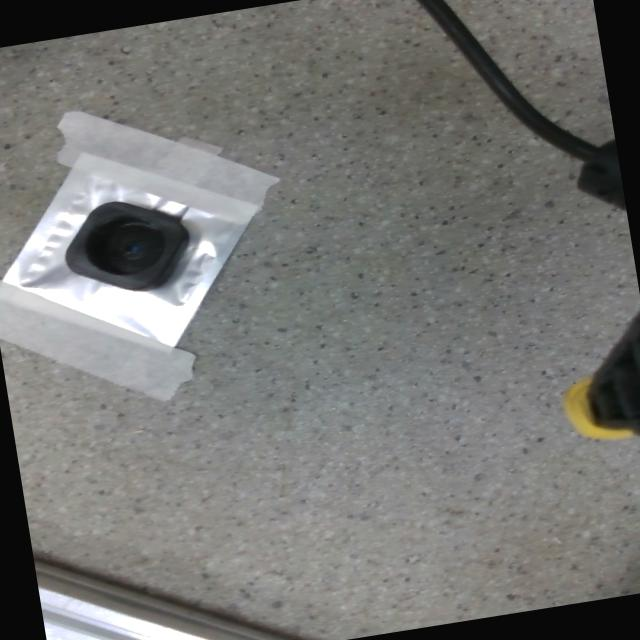cell: (57, 190, 196, 302)
